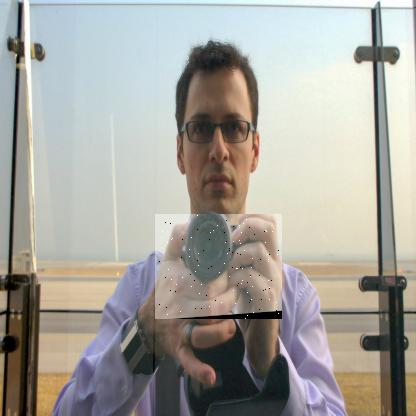Camera: (156, 215, 284, 321)
